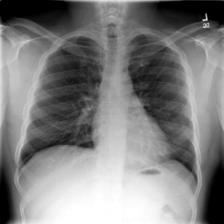normal: (13, 27, 203, 194)
